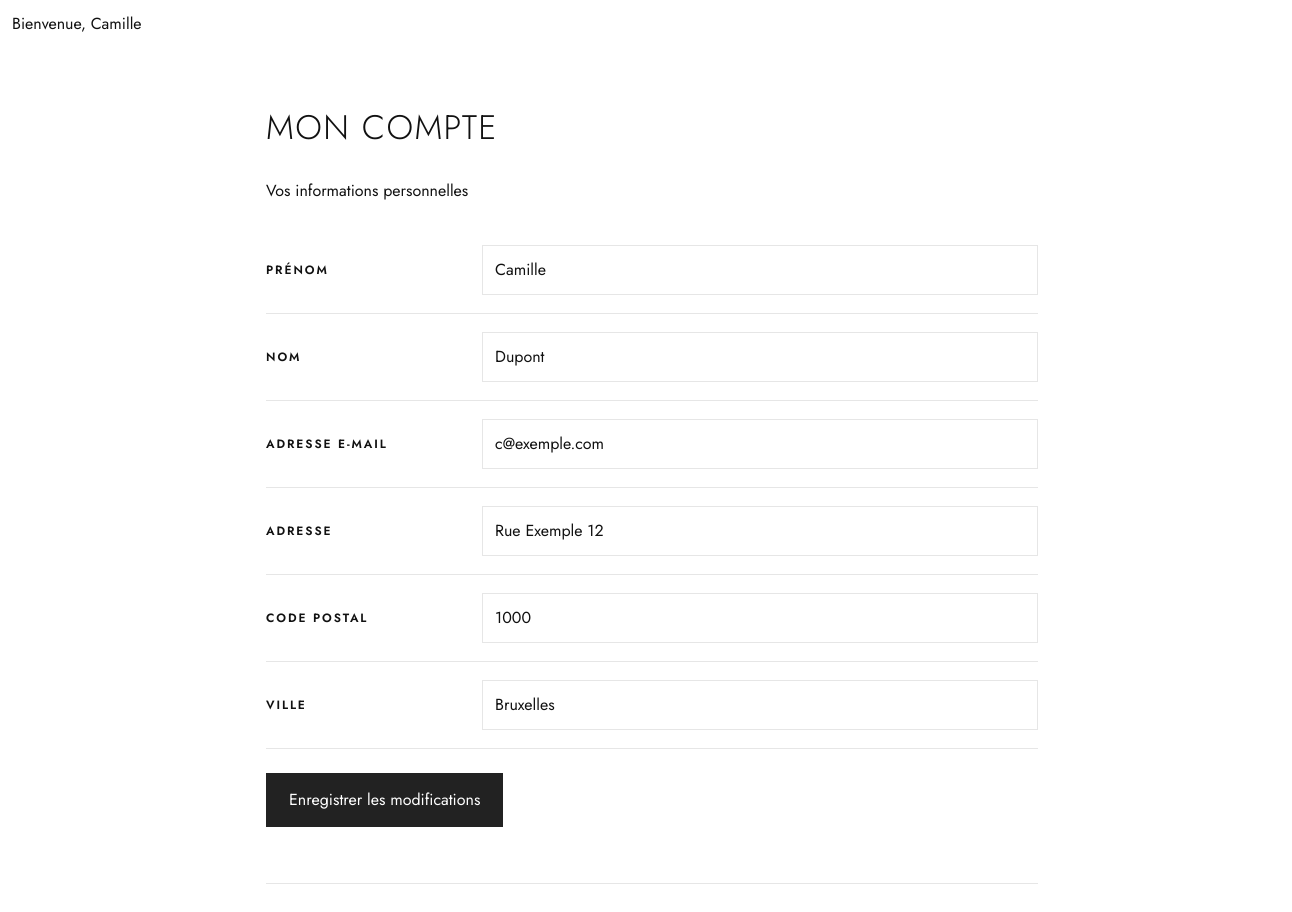
Test: US6 › charge six champs depuis une lecture fraîche et met à jour le contexte après sauvegarde
Expected: the field showing "Bruxelles" is shown, [482, 680, 1038, 730]
Replace the text in the field labelled "Prénom" with "Sam" at [760, 270], box [482, 245, 1038, 295]
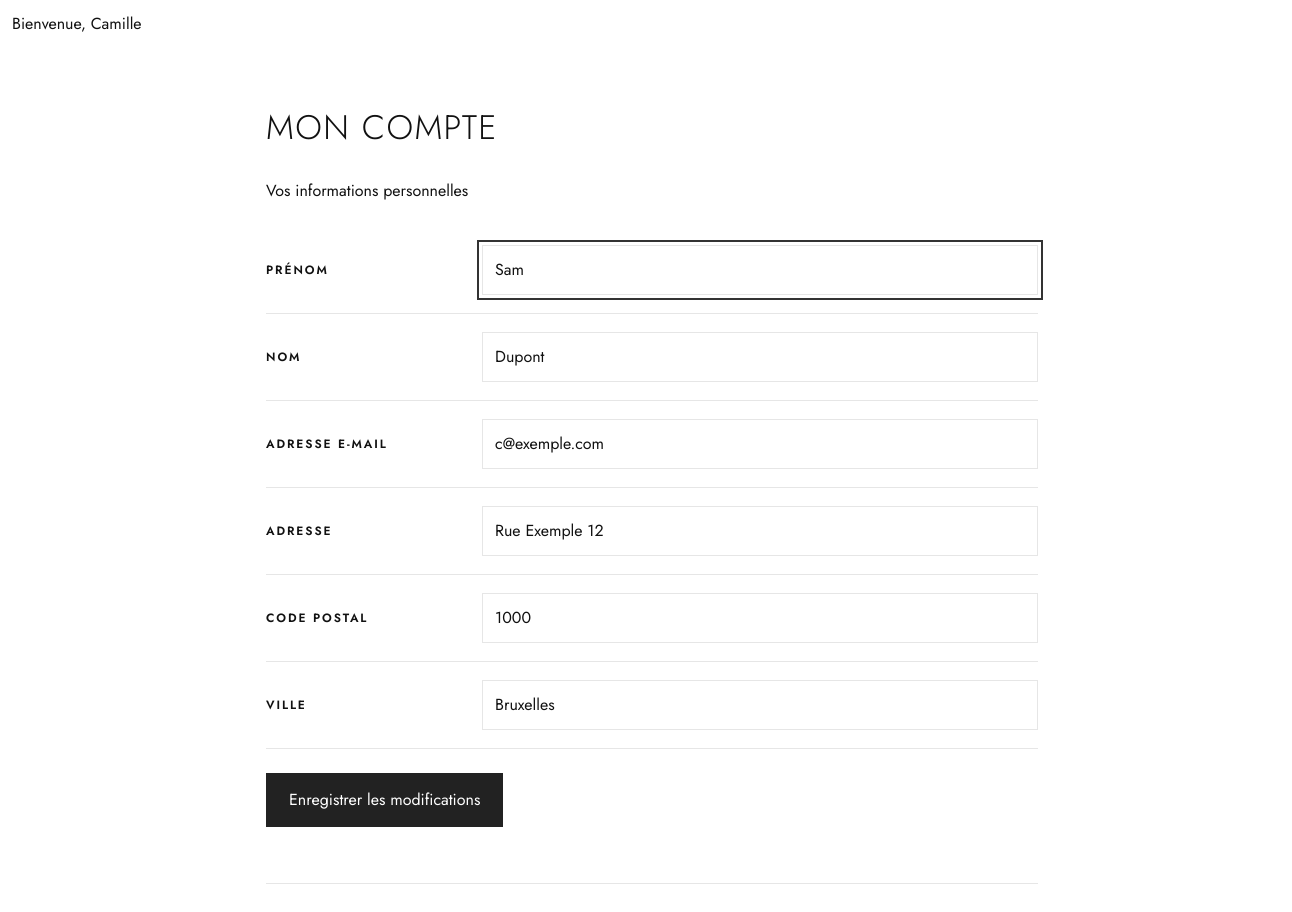
Click the button "Enregistrer les modifications" at [385, 800], box [266, 773, 503, 827]
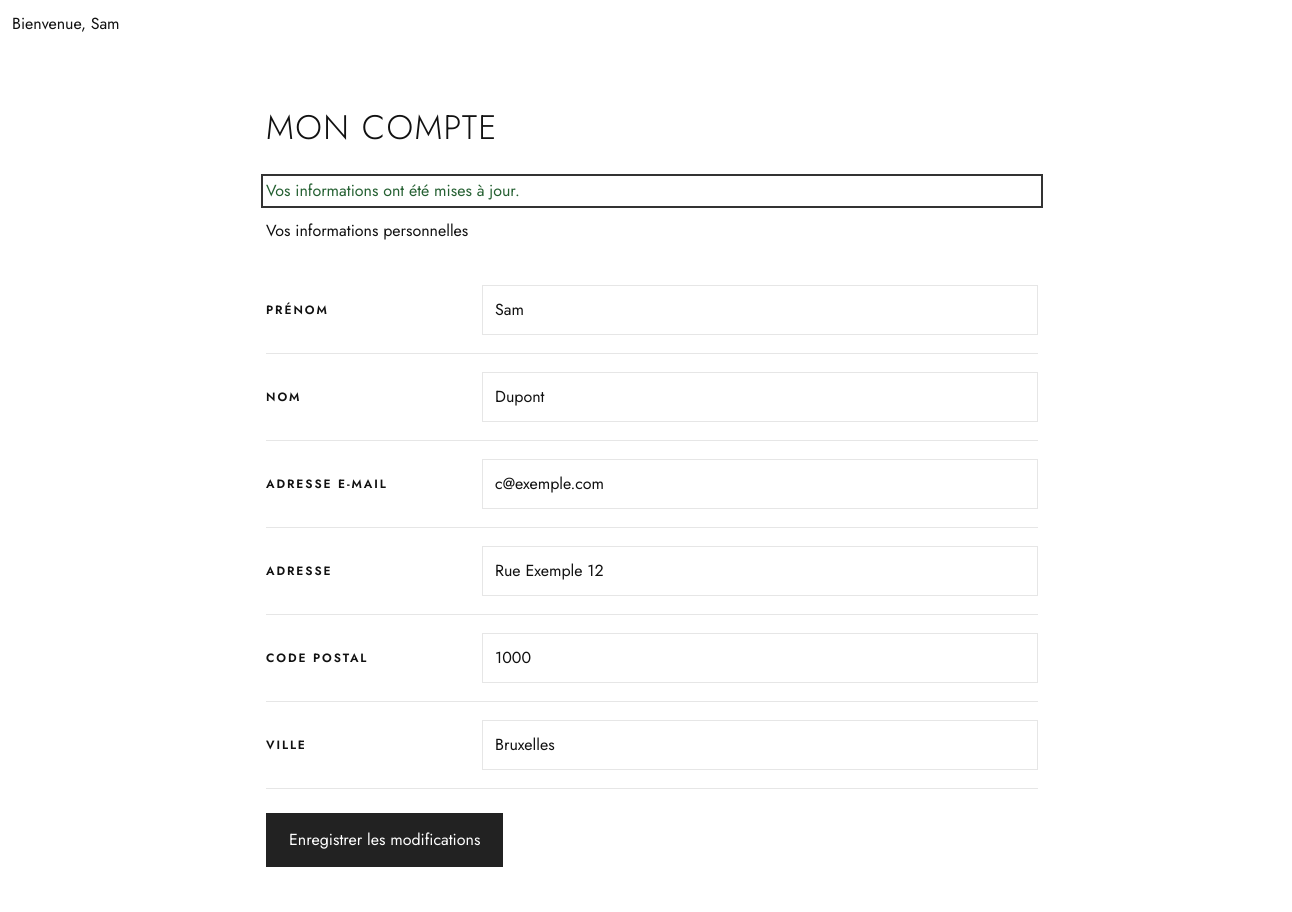
Expected: the text "Vos informations ont été mises à jour." is shown, [266, 179, 520, 202]
Expected: the text "Bienvenue, Sam" is shown, [12, 12, 120, 35]
